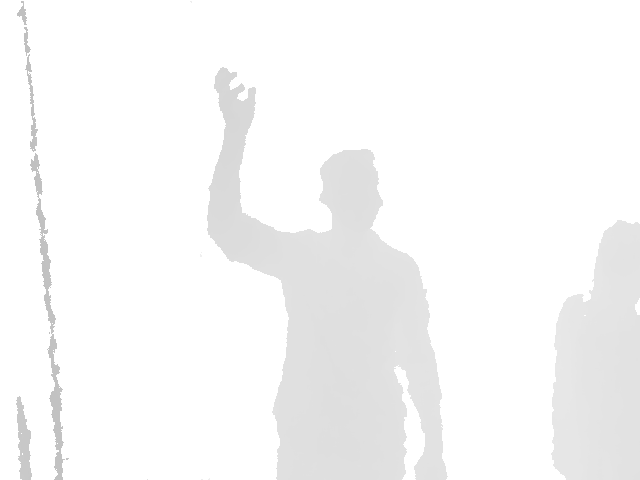hand: (214, 67, 257, 131)
head: (318, 147, 383, 232), (589, 220, 640, 305)
person: (205, 67, 448, 479), (548, 220, 640, 480)
